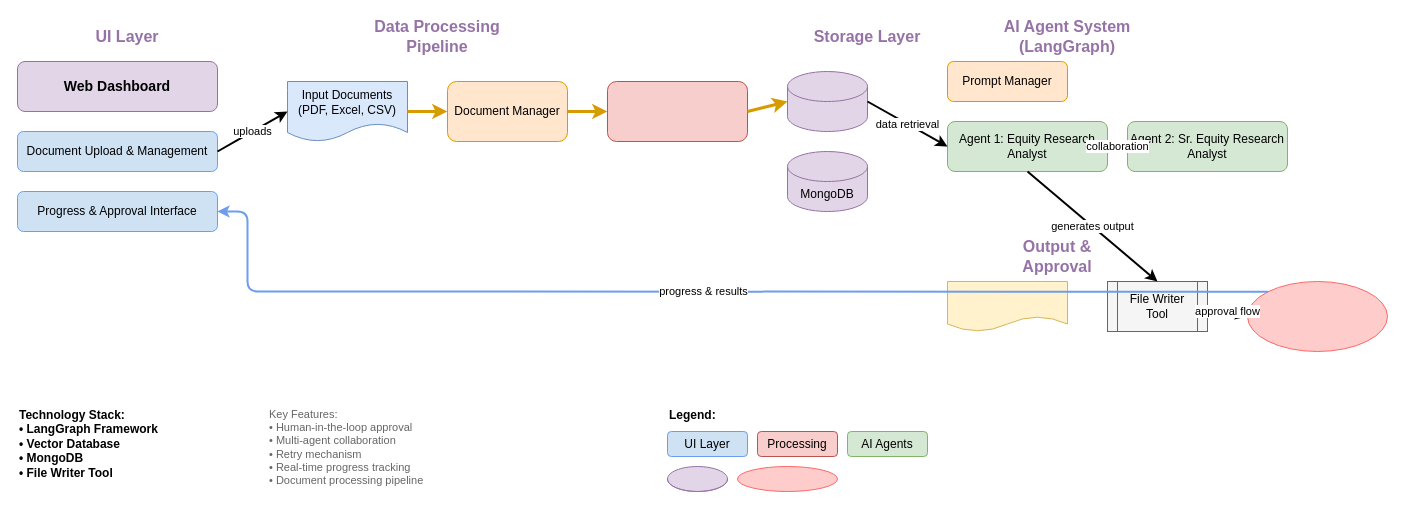
This 1405x518 diagram has some shape labels left out. The shapes that lost their labels are listed below. From the top down, each one's centre as x and y in pixels, then its label:
the point at 677,111: Cleanse, Chunk & Vectorize
the point at 827,101: Vector DB
the point at 1007,306: Draft & Feedback Loop
the point at 1317,316: Human Approval & Final CSV Output
the point at 697,479: Storage
the point at 787,479: Human Interaction
